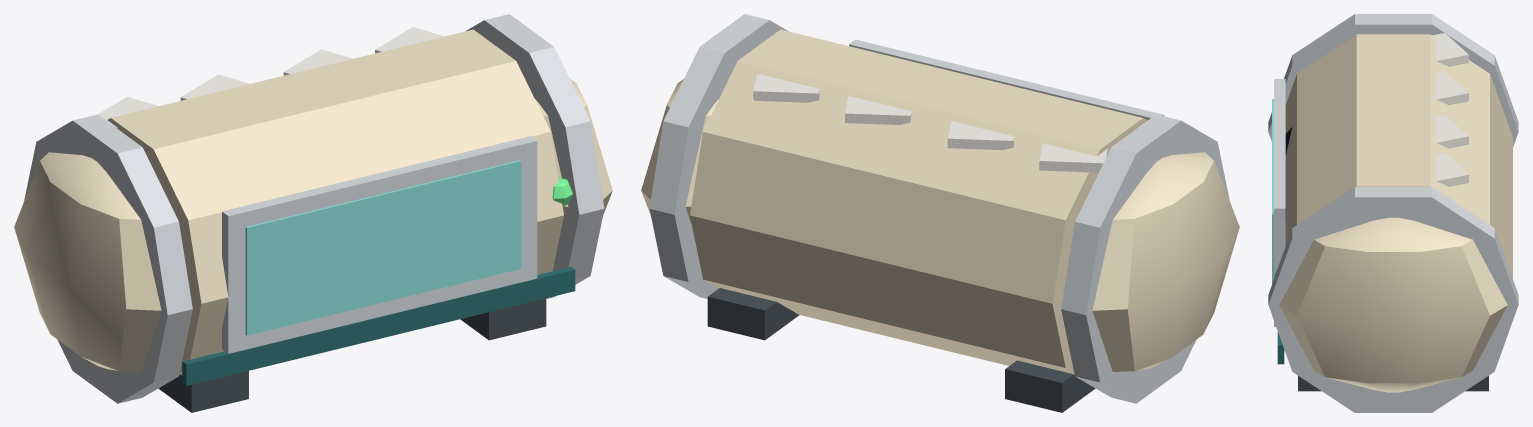
File: Prop_CryoPod.fbx
3 views of the same model, side by side, from view 1: azimuth 30°, elevation 25°; view 2: azimuth 150°, elevation 25°; view 3: azimuth 270°, elevation 25° (orthographic). The views are drawn at different scales.
Parts seen in each view (by area): view 1: Caps, Shell, Window; view 2: Shell, Caps; view 3: Caps, Shell, Window.
Boxes of the visible parts, left/top/right/bottom form: Caps: left=14, top=14, right=612, bottom=412; Shell: left=107, top=29, right=563, bottom=374; Window: left=245, top=160, right=521, bottom=335; Shell: left=690, top=29, right=1147, bottom=374; Caps: left=641, top=14, right=1239, bottom=412; Caps: left=1268, top=14, right=1518, bottom=412; Shell: left=1274, top=34, right=1512, bottom=278; Window: left=1272, top=99, right=1273, bottom=283.
Bounding box in the file's own units: 4.6 × 2.09 × 2.2.
